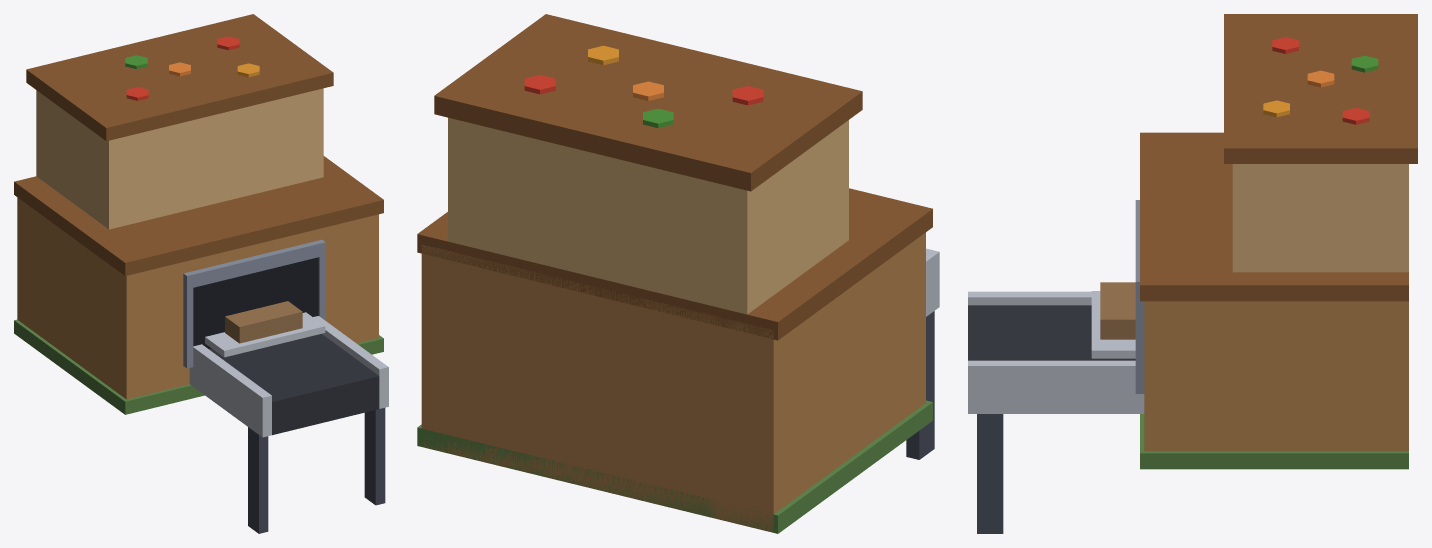
The model's file is intake.glb.
3 renders of one model, left to right at view 1: azimuth 30°, elevation 25°; view 2: azimuth 150°, elevation 25°; view 3: azimuth 270°, elevation 25°, orthographic. The views are drawn at different scales.
Visible parts, largest first — view 1: intake; view 2: intake; view 3: intake.
Boxes of the visible parts, x1=… form: intake: x1=14, y1=14, x2=388, y2=533; intake: x1=417, y1=14, x2=939, y2=533; intake: x1=968, y1=14, x2=1417, y2=533.
Bounding box in the file's own units: 0.82 × 1.05 × 1.02.
1 material, 1 textured.
